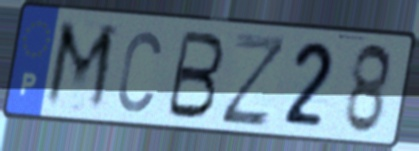2: (278, 39, 337, 131)
8: (340, 41, 395, 138)
B: (163, 27, 228, 123)
C: (115, 27, 164, 115)
M: (40, 17, 121, 116)
Z: (217, 30, 291, 129)
